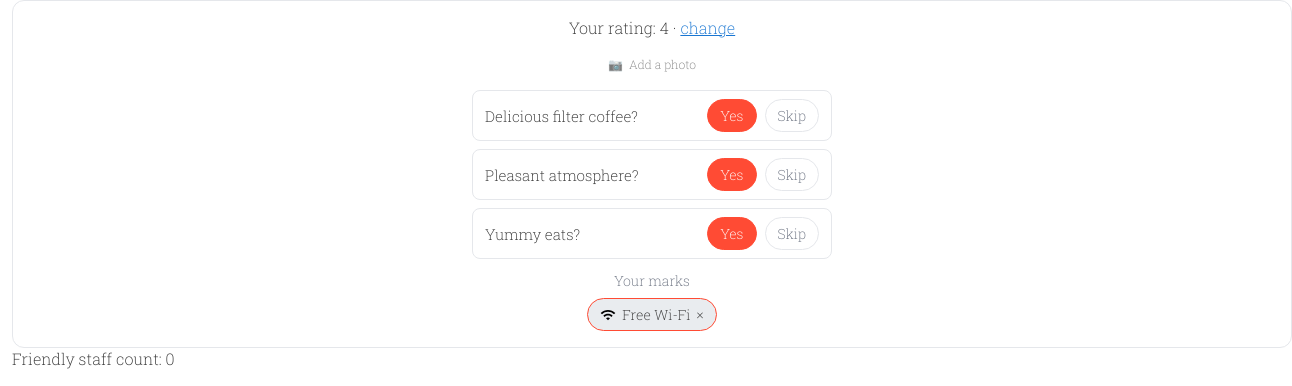
Test case: RateBlock › moves focus back to the Rating when the last mark is removed
Click the button with aria-label "Remove Free Wi-Fi" at [652, 315], box 587,298 -> 717,331
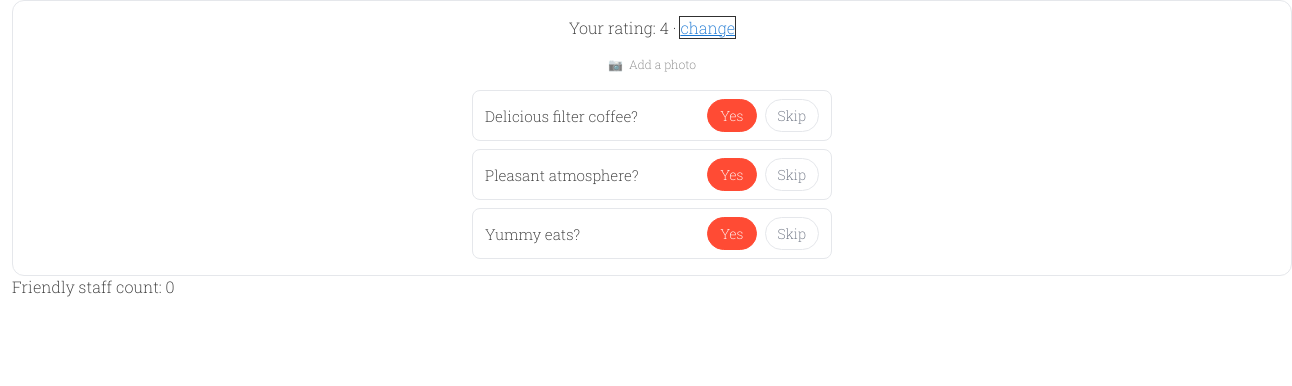
Expected: the text "Your marks" is gone
